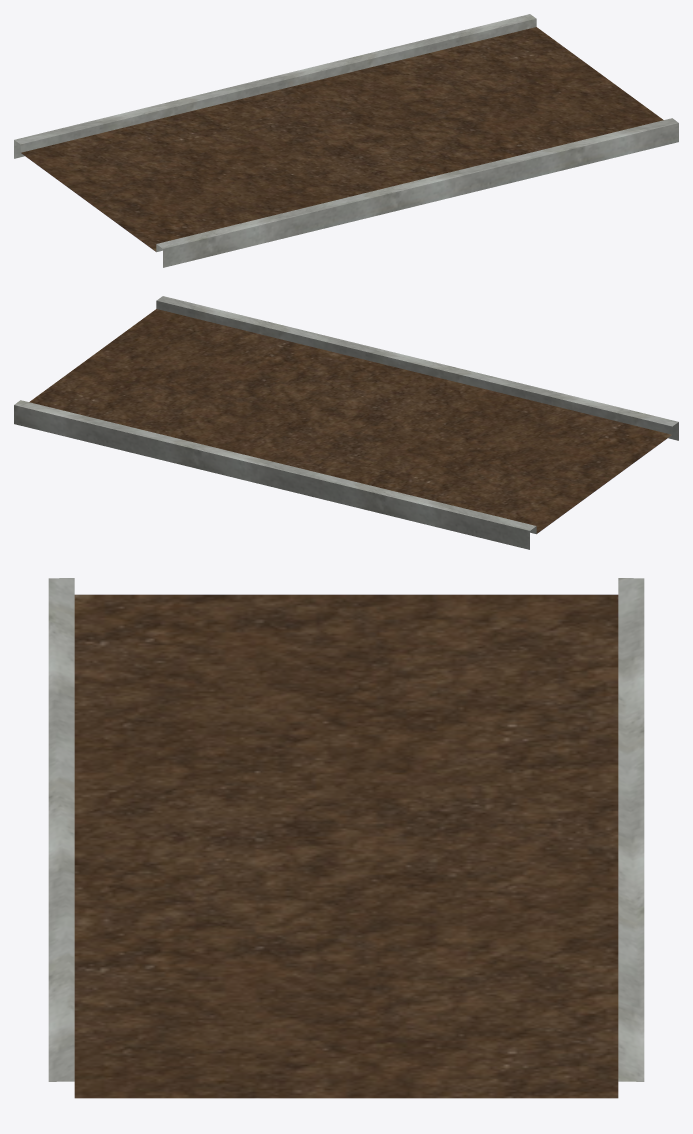
File: Kiyari_5.fbx
The picture shows the model from 3 angles, top to bottom: view 1: azimuth 30°, elevation 25°; view 2: azimuth 150°, elevation 25°; view 3: azimuth 270°, elevation 25°; orthographic projection. The views are drawn at different scales.
Parts seen in each view (by area): view 1: Kiyari_5; view 2: Kiyari_5; view 3: Kiyari_5.
Boxes of the visible parts, left/top/right/bottom form: Kiyari_5: left=14, top=14, right=678, bottom=267; Kiyari_5: left=14, top=296, right=678, bottom=549; Kiyari_5: left=48, top=578, right=644, bottom=1098.
Size of the model in its own units: 4 by 0.142 by 2.
